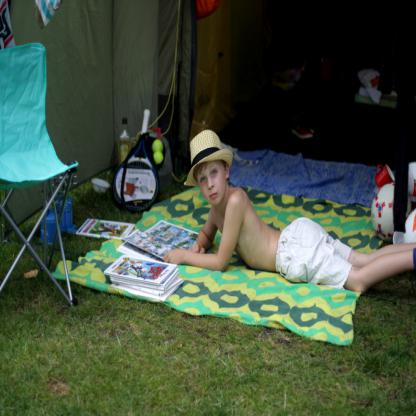Ball: (154, 151, 164, 166), (152, 141, 163, 150), (154, 152, 163, 160)
